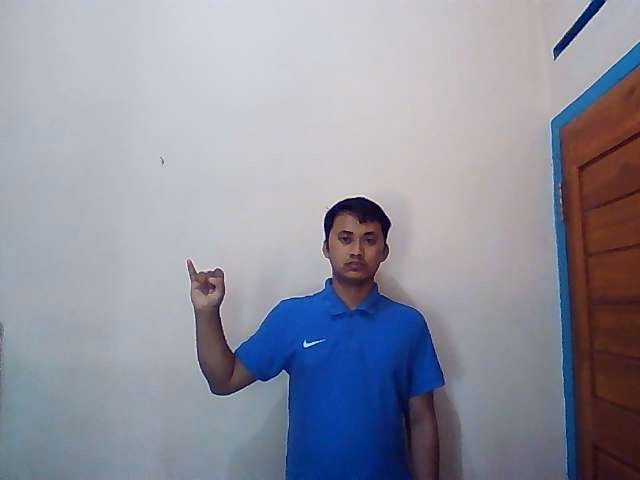I: (184, 258, 228, 312)
